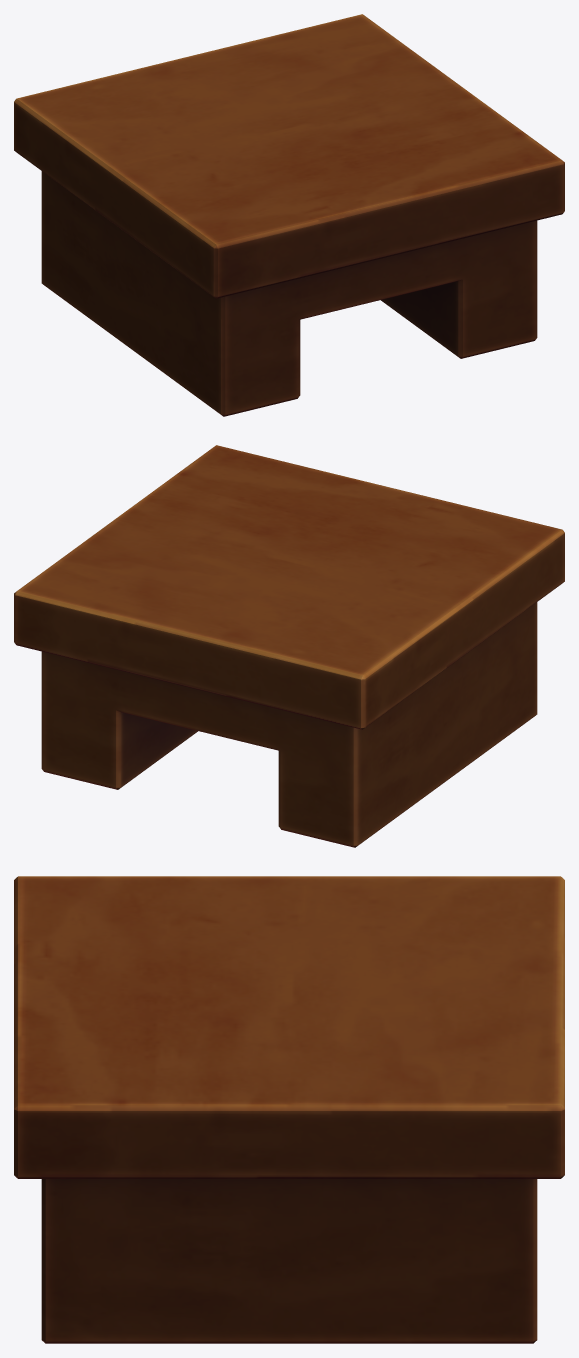
The model's file is TableCounter.fbx.
3 renders of one model, top to bottom at view 1: azimuth 30°, elevation 25°; view 2: azimuth 150°, elevation 25°; view 3: azimuth 270°, elevation 25°, orthographic. The views are drawn at different scales.
Visible parts, largest first — view 1: Kitchen_Cabin.003; view 2: Kitchen_Cabin.003; view 3: Kitchen_Cabin.003.
Boxes of the visible parts, x1=… form: Kitchen_Cabin.003: x1=14, y1=14, x2=564, y2=416; Kitchen_Cabin.003: x1=14, y1=445, x2=564, y2=847; Kitchen_Cabin.003: x1=14, y1=876, x2=564, y2=1343.
Size of the model in its own units: 200 by 100 by 200.
Materials: 1 (1 with a texture image).
